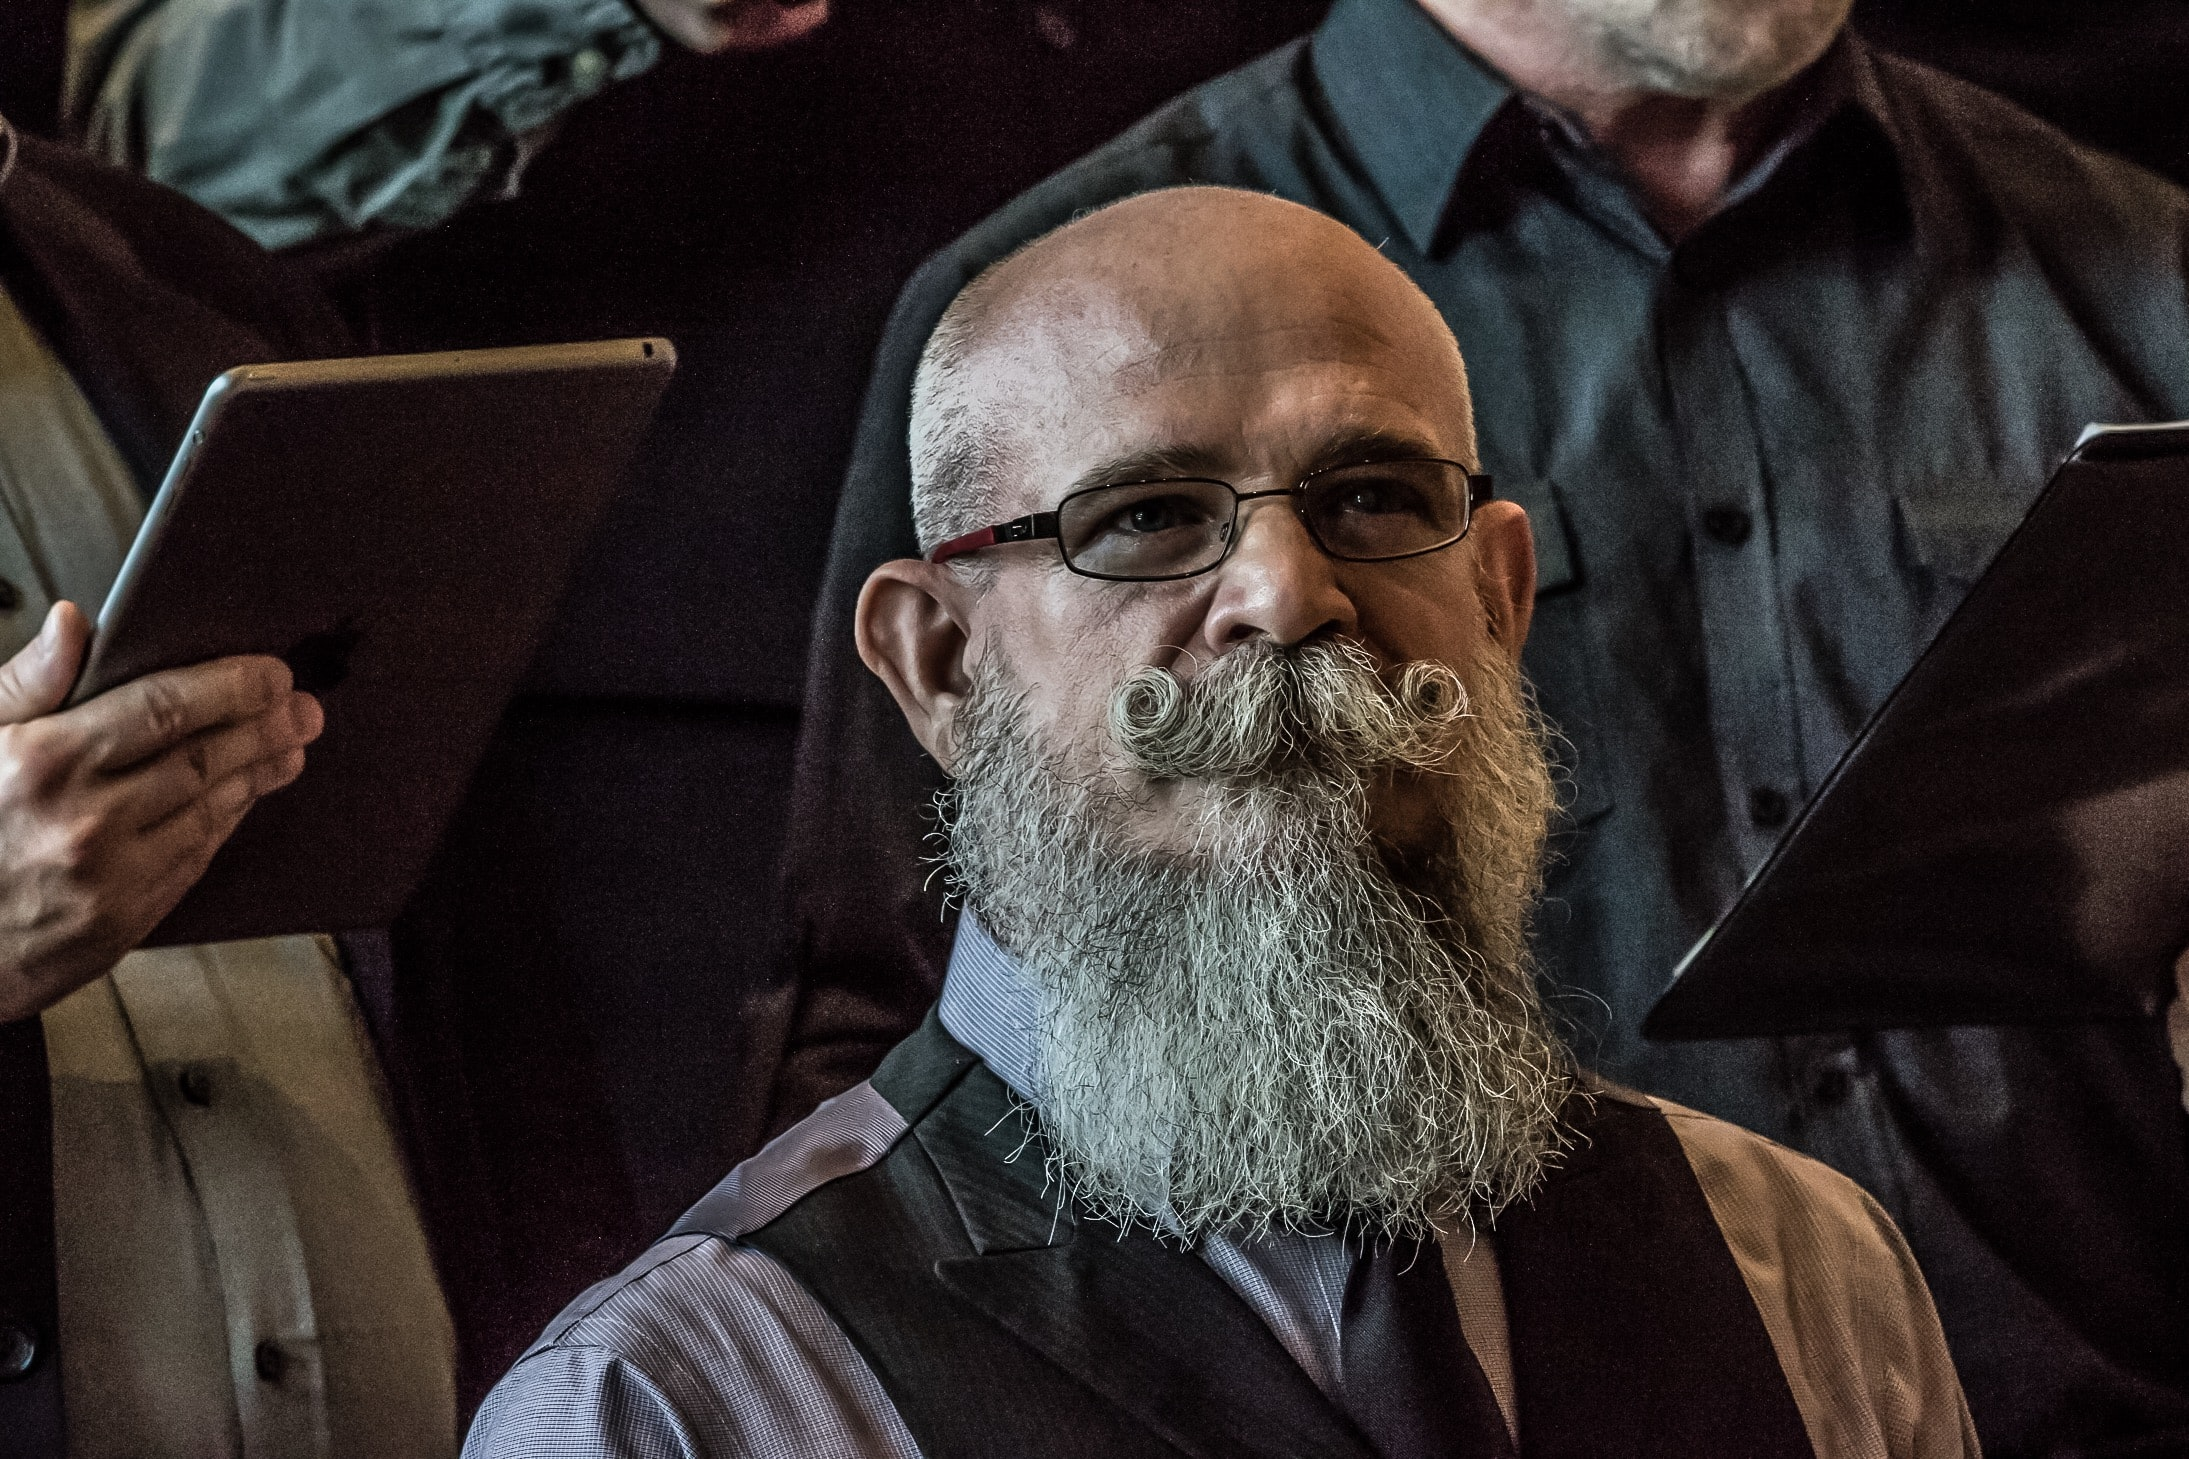face: (904, 186, 1594, 1192)
